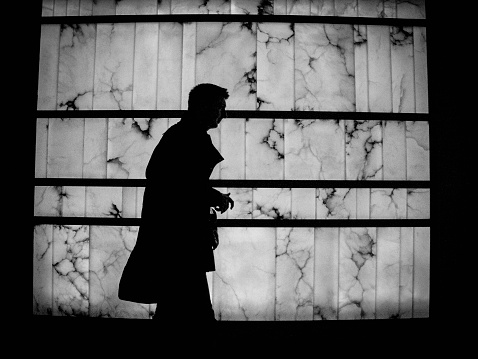em pe: (125, 66, 234, 349)
